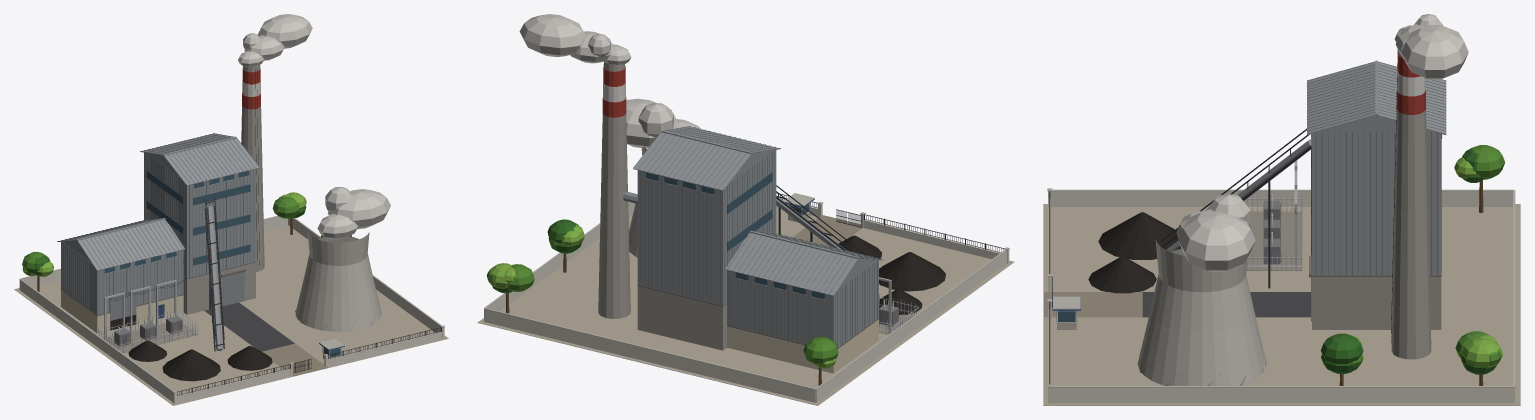
File: power_plant.glb
The picture shows the model from 3 angles, left to right: view 1: azimuth 30°, elevation 25°; view 2: azimuth 150°, elevation 25°; view 3: azimuth 270°, elevation 25°; orthographic projection. The views are drawn at different scales.
Parts seen in each view (by area): view 1: body, windows; view 2: body, windows; view 3: body.
Boxes of the visible parts, left/top/right/bottom form: body: left=14, top=14, right=448, bottom=405; windows: left=104, top=170, right=340, bottom=357; body: left=477, top=14, right=1014, bottom=405; windows: left=646, top=172, right=824, bottom=299; body: left=1043, top=14, right=1520, bottom=405.
Bounding box in the file's own units: 48.7 × 38.98 × 47.9.
